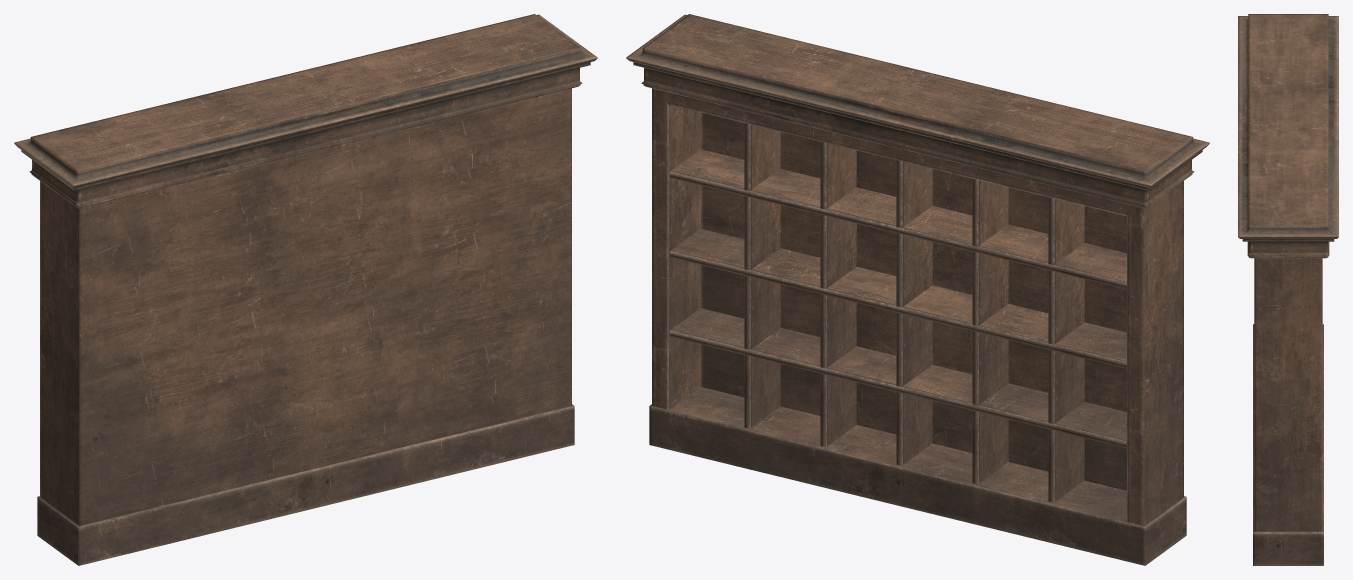
File: SM_Locker01_5_LOD0.glb
3 views of the same model, side by side, from view 1: azimuth 30°, elevation 25°; view 2: azimuth 150°, elevation 25°; view 3: azimuth 270°, elevation 25° (orthographic). The views are drawn at different scales.
Visible parts, largest first — view 1: SM_Locker01_5_LOD0; view 2: SM_Locker01_5_LOD0; view 3: SM_Locker01_5_LOD0.
Boxes of the visible parts, bbox=[...] form: SM_Locker01_5_LOD0: bbox=[14, 14, 597, 565]; SM_Locker01_5_LOD0: bbox=[626, 14, 1209, 565]; SM_Locker01_5_LOD0: bbox=[1238, 14, 1338, 565].
Bounding box in the file's own units: 1.87 × 1.35 × 0.3614.
1 material, 1 textured.
